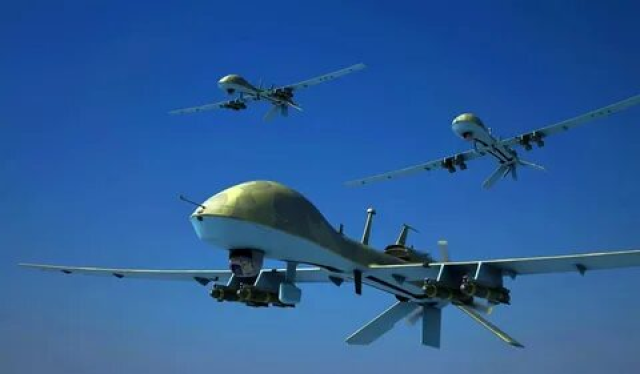military drone: (17, 179, 640, 350), (342, 94, 640, 189), (166, 61, 369, 119)
